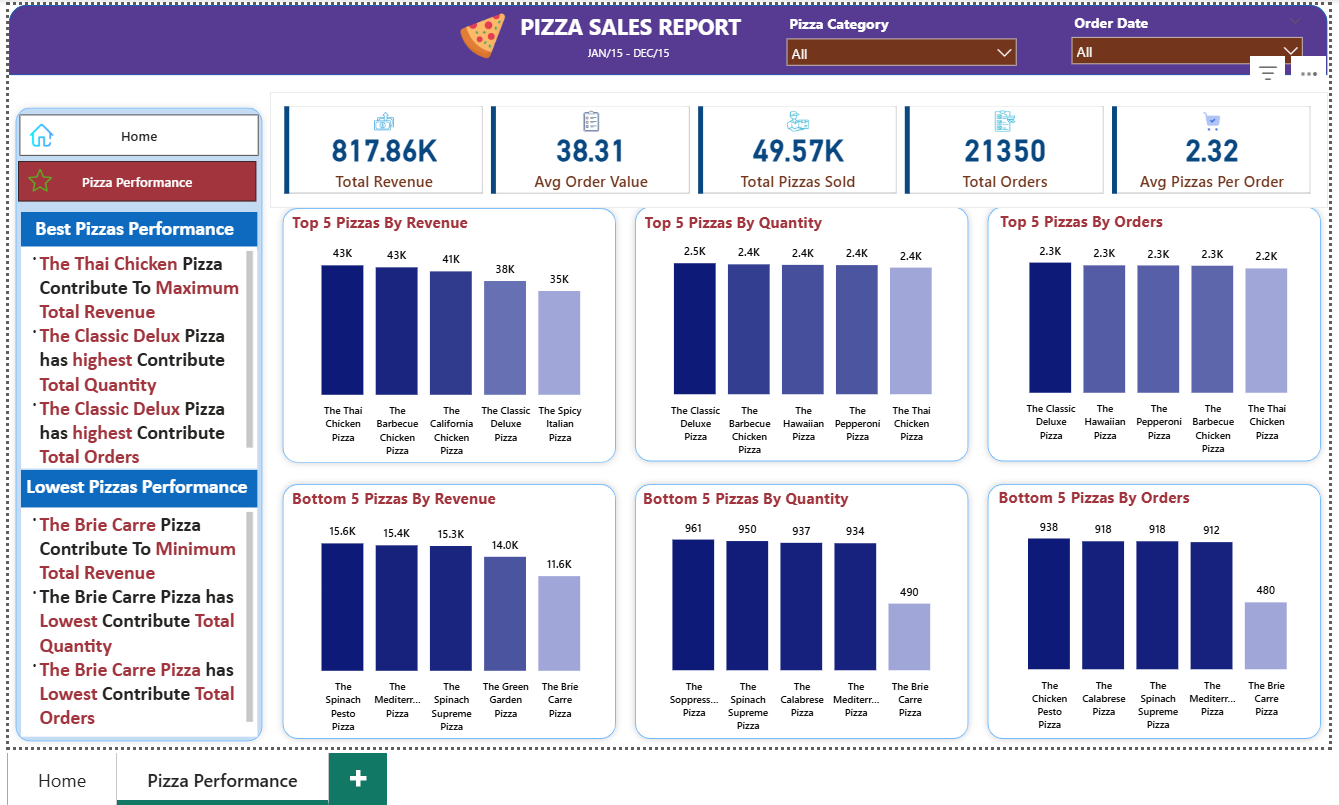

What the dashboard file says about the page in this screenshot:
{"tool":"powerbi","page":{"name":"Pizza Performance","canvas":[1600,900],"ordinal":1},"visuals":[{"type":"shape","box":[0,115.5,315.4,784.8],"z":0},{"type":"shape","box":[0,0,1599.4,85.2],"z":1000},{"type":"textbox","box":[613.3,1.9,282,51.1],"z":2000},{"type":"textbox","box":[696.5,43.5,115.5,30.3],"z":3000},{"type":"image","box":[535.6,9.5,79.5,56.8],"z":4000},{"type":"textbox","box":[14.4,250.4,286.5,45.7],"z":5000},{"type":"textbox","box":[14.4,293.7,286.5,269.6],"z":6000},{"type":"textbox","box":[14.4,563.3,286.5,45.7],"z":7000},{"type":"textbox","box":[14.4,609,286.5,278],"z":8000},{"type":"slicer","fields":{"Values":["pizza_sales.pizza_category"]},"box":[934,4.8,298.5,74.6],"z":9000},{"type":"slicer","fields":{"Values":["pizza_sales.order_date"]},"box":[1279.6,4.1,300.2,84.9],"z":10000},{"type":"shape","box":[323,237.5,420.3,325],"z":11000},{"type":"shape","box":[751.6,237.4,420.3,325.1],"z":12000},{"type":"shape","box":[1179.7,237.4,420.3,325.1],"z":13000},{"type":"shape","box":[323,573.6,420.3,325.1],"z":14000},{"type":"shape","box":[750.6,573.6,420.3,325.1],"z":15000},{"type":"shape","box":[1178.2,573.6,420.3,325.1],"z":16000},{"type":"columnChart","title":"Top 5 Pizzas By Revenue","fields":{"Category":["pizza_sales.pizza_name"],"Y":["pizza_sales.Total Revenue"]},"box":[337.5,250.5,387.2,304.4],"z":17000},{"type":"columnChart","title":"Bottom 5 Pizzas By Revenue","fields":{"Category":["pizza_sales.pizza_name"],"Y":["pizza_sales.Total Revenue"]},"box":[337.5,586,387.2,304.4],"z":18000},{"type":"columnChart","title":"Top 5 Pizzas By Quantity","fields":{"Category":["pizza_sales.pizza_name"],"Y":["pizza_sales.Total Pizzas Sold"]},"box":[766.8,251.5,385.9,303.7],"z":19000},{"type":"columnChart","title":"Bottom 5 Pizzas By Quantity","fields":{"Category":["pizza_sales.pizza_name"],"Y":["pizza_sales.Total Pizzas Sold"]},"box":[764.3,585.1,385.9,303.7],"z":20000},{"type":"columnChart","title":"Top 5 Pizzas By Orders","fields":{"Category":["pizza_sales.pizza_name"],"Y":["pizza_sales.Total Orders"]},"box":[1197.5,249,385.9,303.7],"z":21000},{"type":"columnChart","title":"Bottom 5 Pizzas By Orders","fields":{"Category":["pizza_sales.pizza_name"],"Y":["pizza_sales.Total Orders"]},"box":[1194.7,583.9,387.2,304.4],"z":22000},{"type":"pageNavigator","box":[12.4,132.5,290,50],"z":23000},{"type":"pageNavigator","box":[10.4,188.4,289.9,49.7],"z":24000},{"type":"image","box":[14.5,142.9,49.7,29],"z":25000},{"type":"image","box":[12.4,198.8,49.7,29],"z":26000},{"type":"cardVisual","fields":{"Data":["pizza_sales.Total Revenue","pizza_sales.Avg Order Value","pizza_sales.Total Pizzas Sold","pizza_sales.Total Orders","pizza_sales.Avg Pizzas Per Order"]},"box":[316.8,105.6,1281.7,140.8],"z":27000}]}

Visuals, with their boxes on the page's 1600x900 design canvas (x1, y1, x2, y2). These are canvas units, not pixel positions in the 1339x805 screenshot, which may show the page scaled, cropped or inside an application window:
shape: 0,116,315,900
shape: 0,0,1599,85
textbox: 613,2,895,53
textbox: 696,44,812,74
image: 536,10,615,66
textbox: 14,250,301,296
textbox: 14,294,301,563
textbox: 14,563,301,609
textbox: 14,609,301,887
slicer - pizza_sales.pizza_category: 934,5,1232,79
slicer - pizza_sales.order_date: 1280,4,1580,89
shape: 323,238,743,562
shape: 752,237,1172,562
shape: 1180,237,1600,562
shape: 323,574,743,899
shape: 751,574,1171,899
shape: 1178,574,1598,899
"Top 5 Pizzas By Revenue" columnChart: 338,250,725,555
"Bottom 5 Pizzas By Revenue" columnChart: 338,586,725,890
"Top 5 Pizzas By Quantity" columnChart: 767,252,1153,555
"Bottom 5 Pizzas By Quantity" columnChart: 764,585,1150,889
"Top 5 Pizzas By Orders" columnChart: 1198,249,1583,553
"Bottom 5 Pizzas By Orders" columnChart: 1195,584,1582,888
pageNavigator: 12,132,302,182
pageNavigator: 10,188,300,238
image: 14,143,64,172
image: 12,199,62,228
cardVisual - pizza_sales.Total Revenue x pizza_sales.Avg Order Value: 317,106,1598,246
